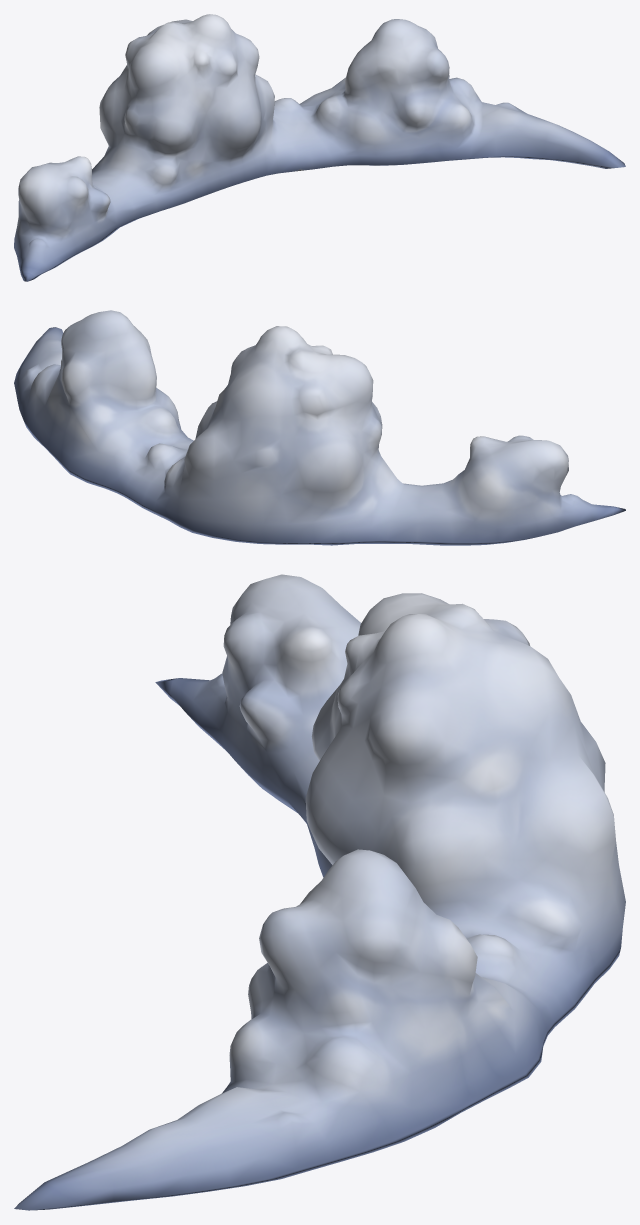
Rendered from cloud_right.fbx.
The picture shows the model from 3 angles, top to bottom: view 1: azimuth 30°, elevation 25°; view 2: azimuth 150°, elevation 25°; view 3: azimuth 270°, elevation 25°; orthographic projection. The views are drawn at different scales.
Parts seen in each view (by area): view 1: cloud_right; view 2: cloud_right; view 3: cloud_right.
Part boxes in pixels (x1=…): cloud_right: x1=14, y1=14, x2=625, y2=281; cloud_right: x1=14, y1=310, x2=625, y2=545; cloud_right: x1=14, y1=574, x2=625, y2=1210.
Size of the model in its own units: 1365 by 369 by 655.
1 material, 1 textured.
